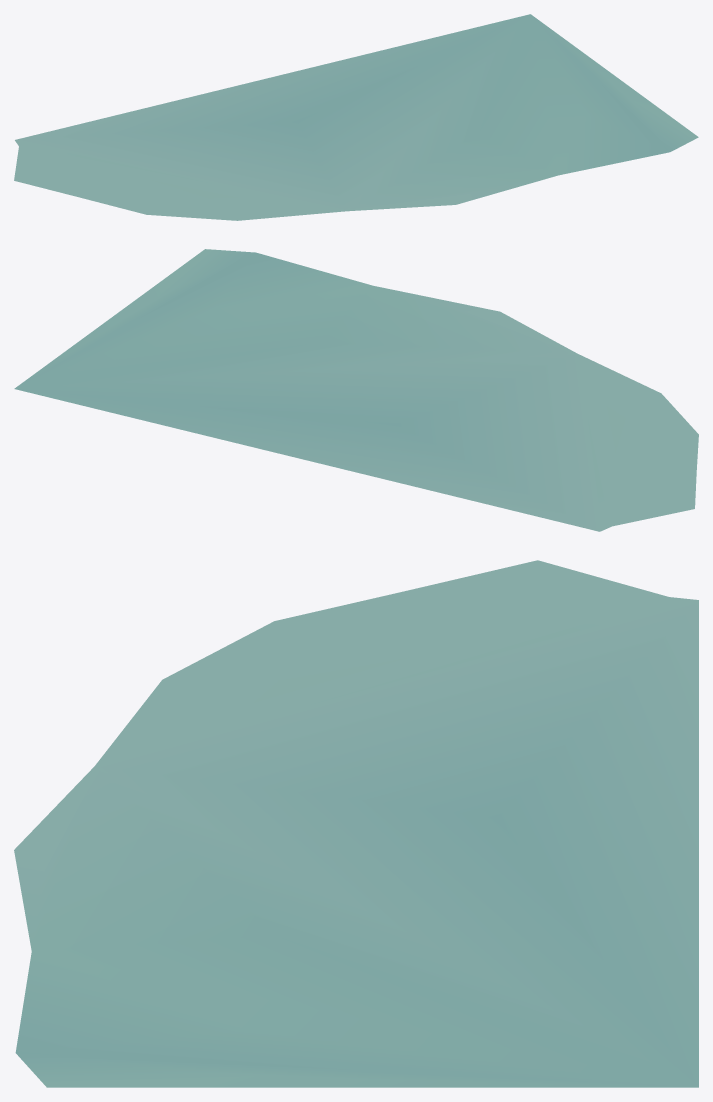
The model's file is water-17-10.glb.
The picture shows the model from 3 angles, top to bottom: view 1: azimuth 30°, elevation 25°; view 2: azimuth 150°, elevation 25°; view 3: azimuth 270°, elevation 25°; orthographic projection. The views are drawn at different scales.
Size of the model in its own units: 15.49 by 0 by 8.5.
